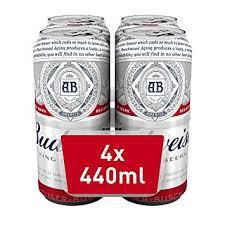beer: (33, 13, 190, 207)
